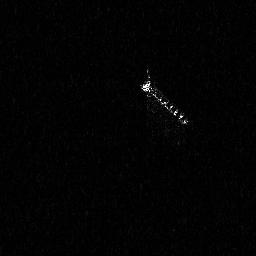ship: (137, 67, 192, 126)
